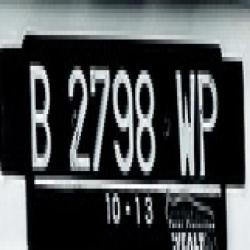LicensePlate: (21, 30, 225, 250)
